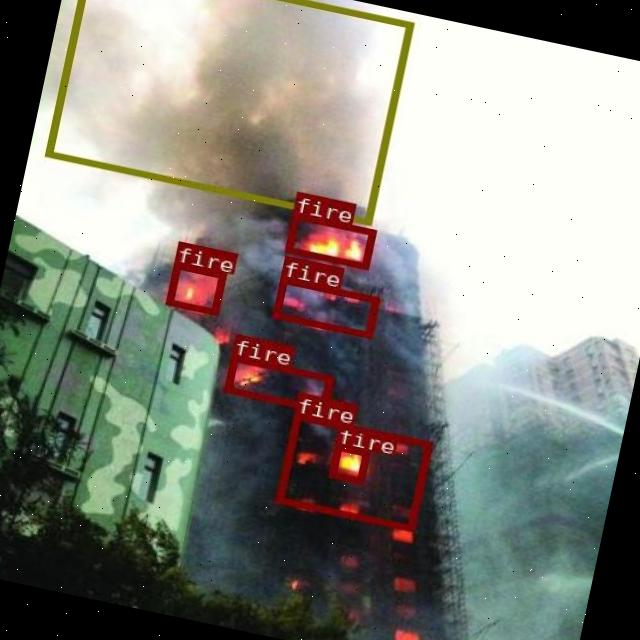fire: (274, 412, 432, 530), (271, 274, 378, 336), (222, 353, 331, 412), (284, 212, 375, 268), (164, 260, 225, 313), (327, 442, 369, 482)
smoke: (43, 0, 412, 223)
